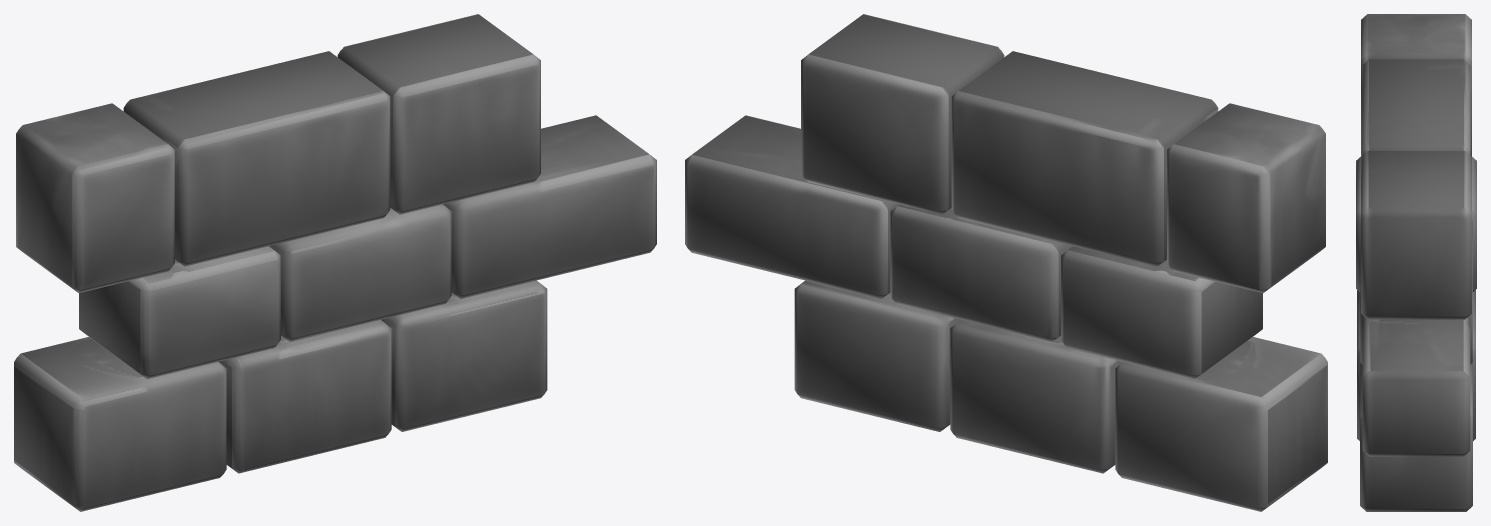
File: SmallRuinsWall.glb
3 renders of one model, left to right at view 1: azimuth 30°, elevation 25°; view 2: azimuth 150°, elevation 25°; view 3: azimuth 270°, elevation 25°, orthographic. The views are drawn at different scales.
Parts seen in each view (by area): view 1: Wall.002; view 2: Wall.002; view 3: Wall.002.
Boxes of the visible parts, <box> form: Wall.002: <box>14,14,656,511</box>; Wall.002: <box>685,14,1327,511</box>; Wall.002: <box>1356,14,1476,511</box>.
Size of the model in its own units: 5.33 by 3 by 1.09.
1 material, 1 textured.
